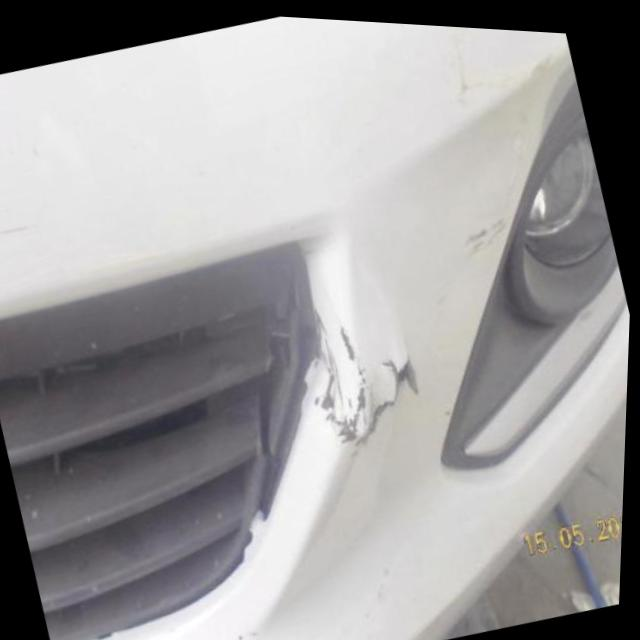Car-Damage: (268, 256, 450, 474), (418, 20, 559, 104), (461, 202, 521, 258)
